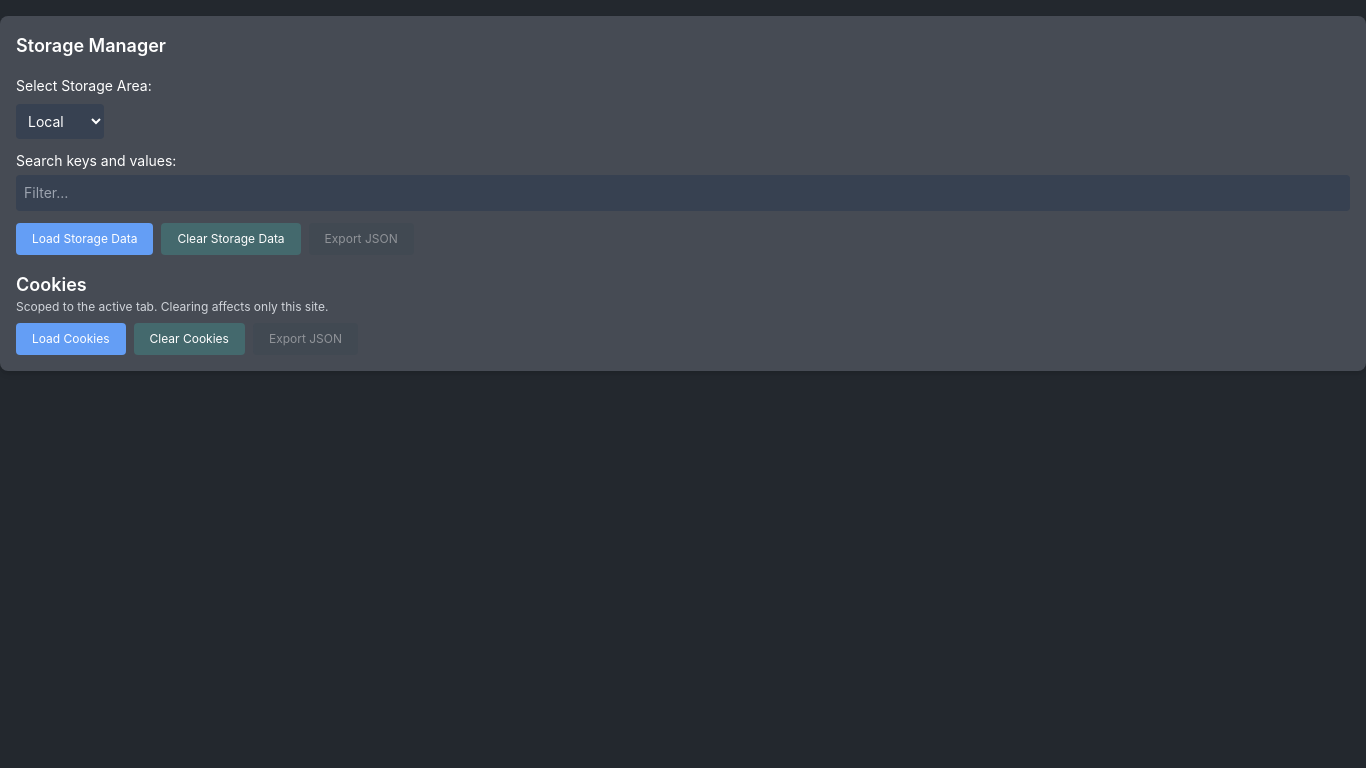
Test: StorageManager › filters rendered storage keys by the search box
Click the button "Load Storage Data" at (85, 239), box [16, 223, 153, 255]
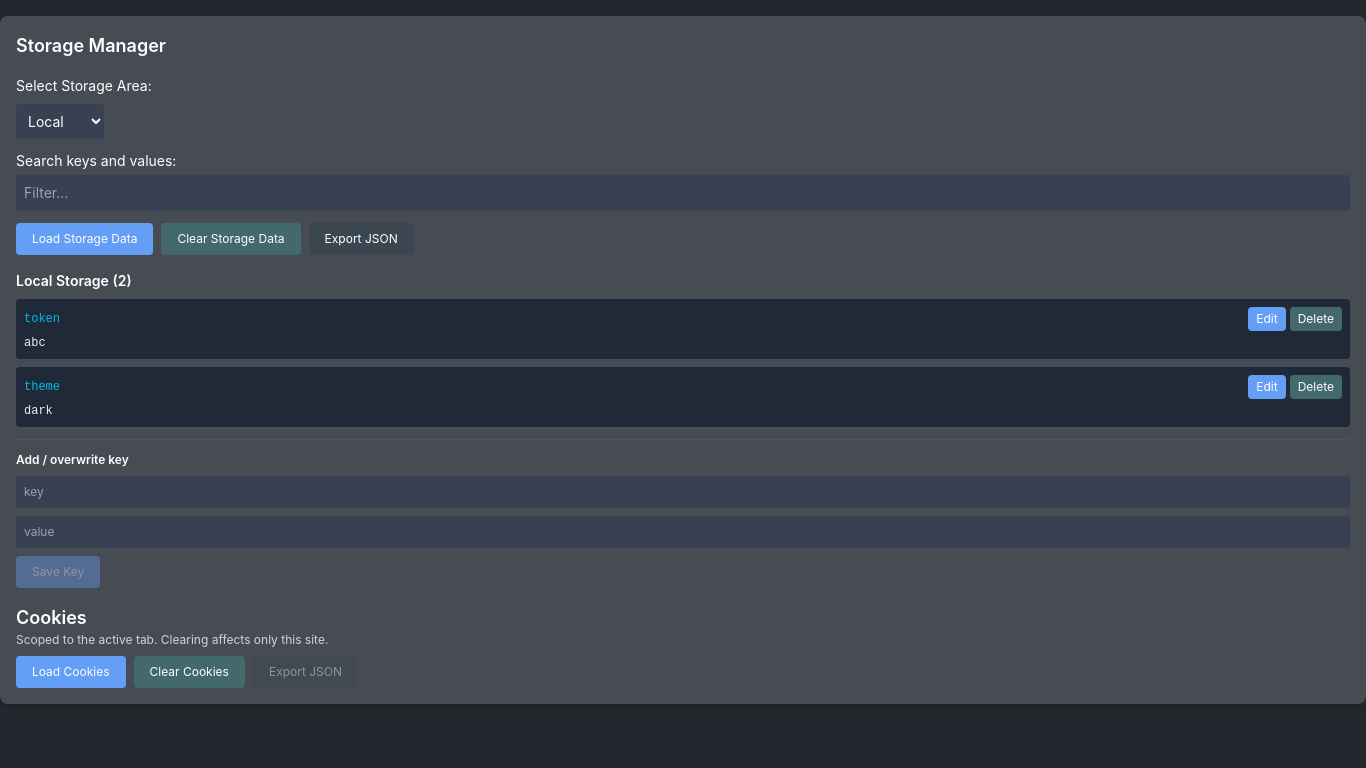
Expected: the text "token" is shown, [24, 311, 60, 327]
Type "theme" into the search field labelled "Search keys and values:" at (683, 193), box [16, 175, 1350, 211]
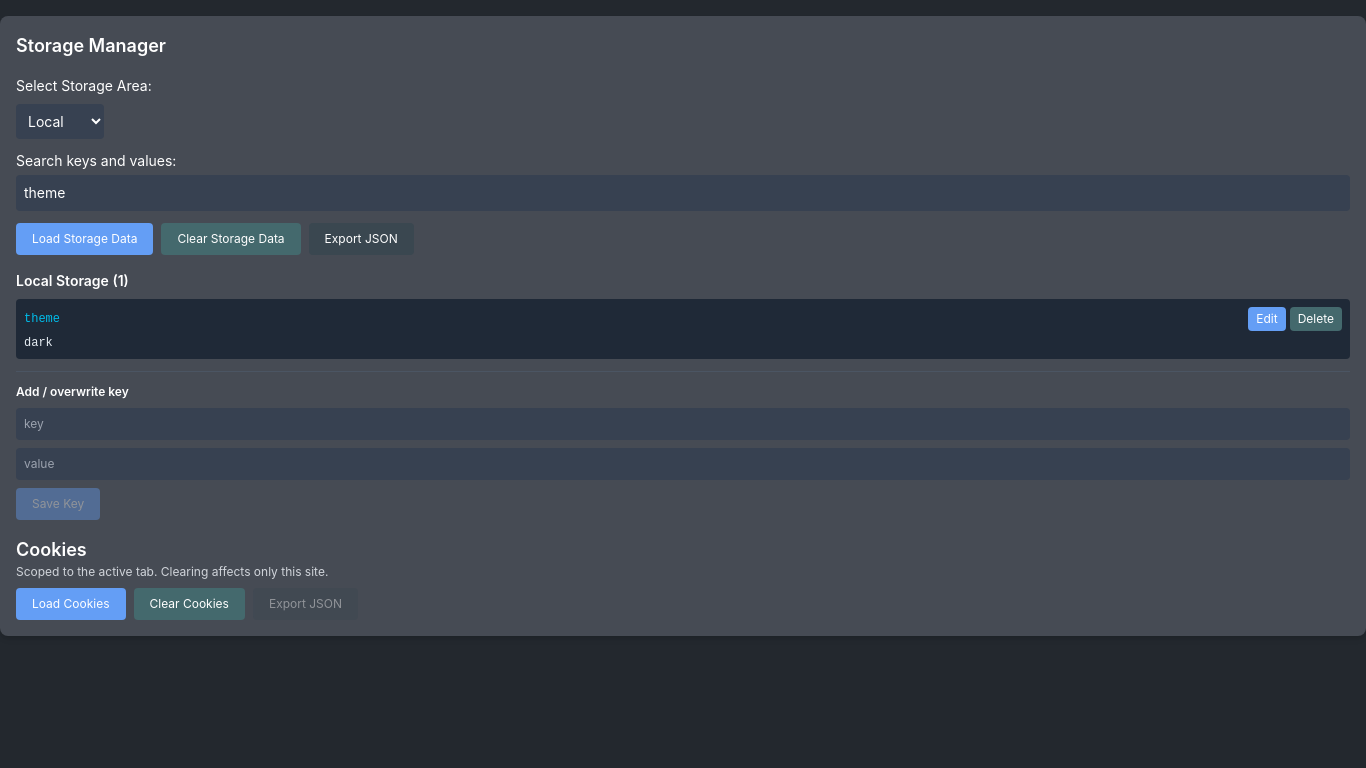
Expected: the text "theme" is shown, [24, 311, 60, 327]
Expected: the text "token" is gone
